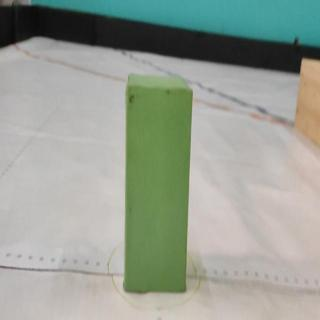greenbox: (122, 71, 194, 295)
